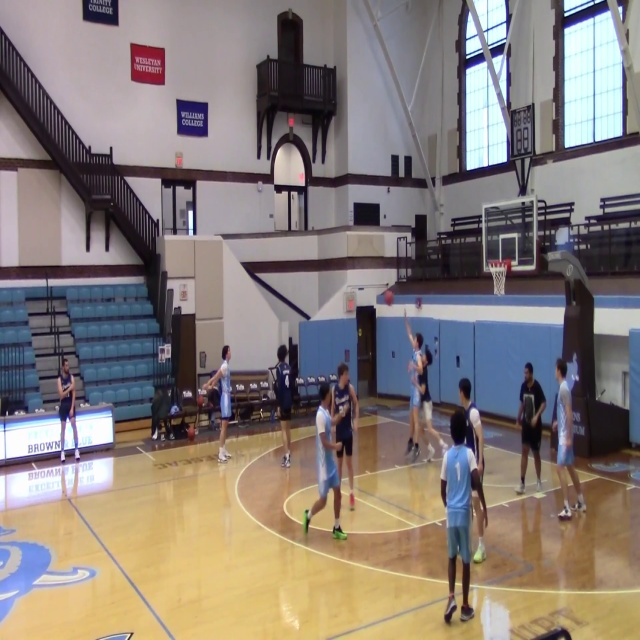Basketball: (384, 290, 394, 305), (415, 297, 422, 309), (196, 395, 204, 405)
